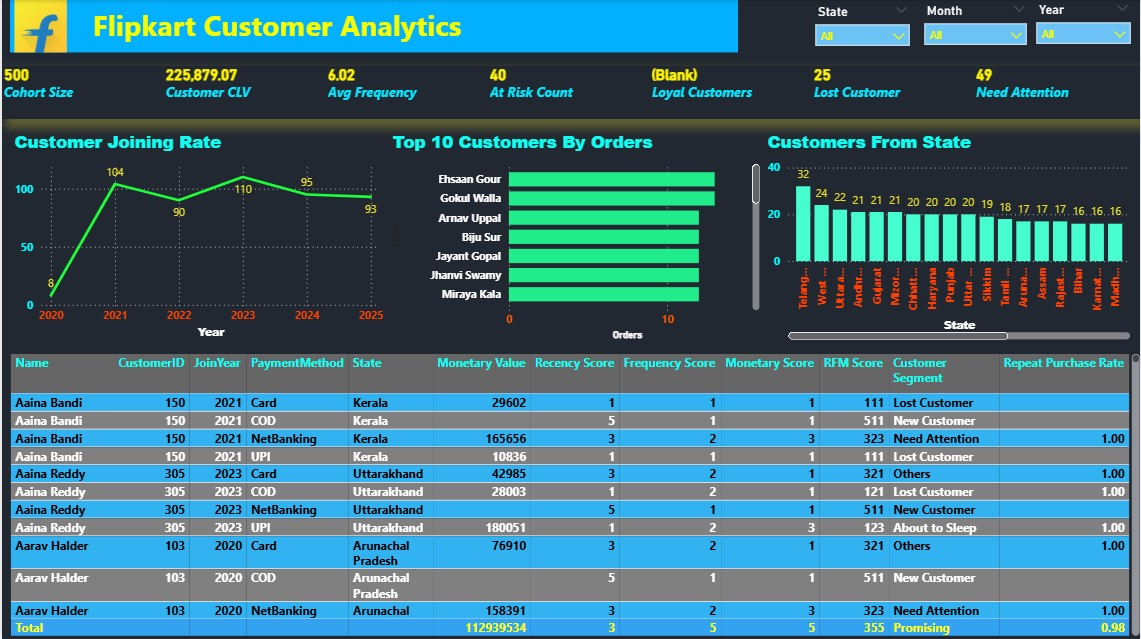

The page's visual inventory and layout, read from the dashboard file:
{"tool":"powerbi","page":{"name":"Customers Segmentation","canvas":[1280,720],"ordinal":2},"visuals":[{"type":"textbox","box":[9.1,0,819.3,58.8],"z":0},{"type":"multiRowCard","fields":{"Values":["customers.Cohort Size","customers.Customer CLV","customers.Avg Frequency","customers.At Risk Count","customers.Cannot Lose Them Count","customers.New Customer Count","customers.Champion Count"]},"box":[0,74.3,1280,59.8],"z":1000},{"type":"image","box":[0,0,86.2,58.7],"z":2000},{"type":"tableEx","fields":{"Values":["customers.Name","customers.CustomerID","customers.JoinYear","orders.PaymentMethod","customers.State","customers.Monetary Value","customers.Recency Score","customers.Frequency Score","customers.Monetary Score","customers.RFM Score","customers.Customer Segment","customers.Repeat Purchase Rate"]},"box":[9.3,397.9,1270.7,321.9],"z":3000},{"type":"barChart","title":" Top 10 Customers By Orders","fields":{"Category":["customers.Name"],"Y":["CountNonNull(order_details.OrderID)"]},"box":[433.8,144.9,423.1,241.8],"z":4000},{"type":"lineChart","title":"Customer Joining Rate","fields":{"Category":["customers.JoinDate.Variation.Date Hierarchy.Year"],"Y":["CountNonNull(customers.CustomerID)"]},"box":[8.9,144.9,424.9,241.8],"z":5000},{"type":"columnChart","title":"Customers From State","fields":{"Category":["customers.State"],"Y":["CountNonNull(customers.CustomerID)"]},"box":[856.6,144.8,417.9,241.7],"z":6000},{"type":"slicer","fields":{"Values":["customers.State"]},"box":[910.2,4.4,115.6,50.7],"z":7000},{"type":"slicer","fields":{"Values":["orders.Month"]},"box":[1032.9,3.6,125.3,55.1],"z":8000},{"type":"slicer","fields":{"Values":["orders.OrderYear"]},"box":[1158.2,2.7,115.6,52.4],"z":9000}]}

Visuals, with their boxes in screenshot pixels (x1, y1, x2, y2), scaled from the page's 1280x720 canvas onto the 1141x639 screenshot:
textbox: rect(8, 0, 738, 52)
multiRowCard - customers.Cohort Size x customers.Customer CLV: rect(0, 66, 1140, 119)
image: rect(0, 0, 77, 52)
tableEx - customers.Name x customers.CustomerID: rect(8, 353, 1140, 638)
" Top 10 Customers By Orders" barChart: rect(387, 129, 764, 343)
"Customer Joining Rate" lineChart: rect(8, 129, 387, 343)
"Customers From State" columnChart: rect(764, 129, 1136, 343)
slicer - customers.State: rect(811, 4, 914, 49)
slicer - orders.Month: rect(921, 3, 1032, 52)
slicer - orders.OrderYear: rect(1032, 2, 1135, 49)
